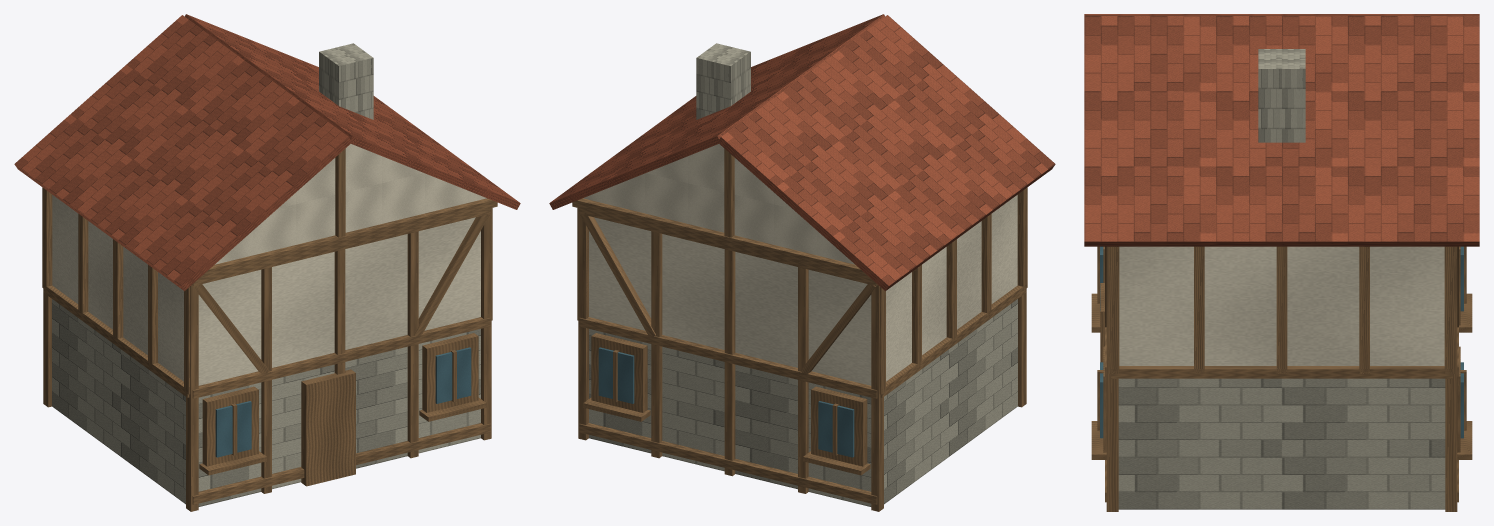
3 renders of one model, left to right at view 1: azimuth 30°, elevation 25°; view 2: azimuth 150°, elevation 25°; view 3: azimuth 270°, elevation 25°, orthographic. The views are drawn at different scales.
Visible parts, largest first — view 1: house-roof, house-wood, house-plaster, house-stone, house-glass; view 2: house-roof, house-plaster, house-wood, house-stone, house-glass; view 3: house-roof, house-stone, house-plaster, house-wood, house-glass.
Boxes of the visible parts, <box> form: house-roof: <box>14,14,520,291</box>; house-wood: <box>42,148,497,511</box>; house-plaster: <box>52,144,486,385</box>; house-stone: <box>52,43,480,506</box>; house-glass: <box>215,347,471,457</box>; house-roof: <box>549,14,1055,291</box>; house-plaster: <box>583,144,1017,385</box>; house-wood: <box>572,148,1027,511</box>; house-stone: <box>589,43,1017,506</box>; house-glass: <box>598,347,854,457</box>; house-roof: <box>1084,14,1479,246</box>; house-stone: <box>1118,49,1445,509</box>; house-plaster: <box>1119,246,1444,365</box>; house-wood: <box>1091,246,1472,511</box>; house-glass: <box>1100,246,1463,438</box>.
Bounding box in the file's own units: 7.88 × 7.7 × 6.7.
Materials: 5 (5 with a texture image).
